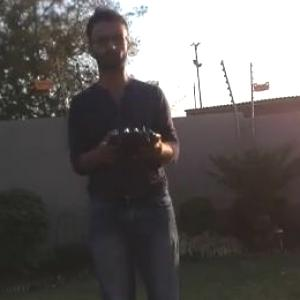follow: (63, 0, 192, 299)
